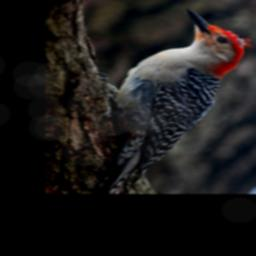Woodpecker: (95, 9, 252, 194)
